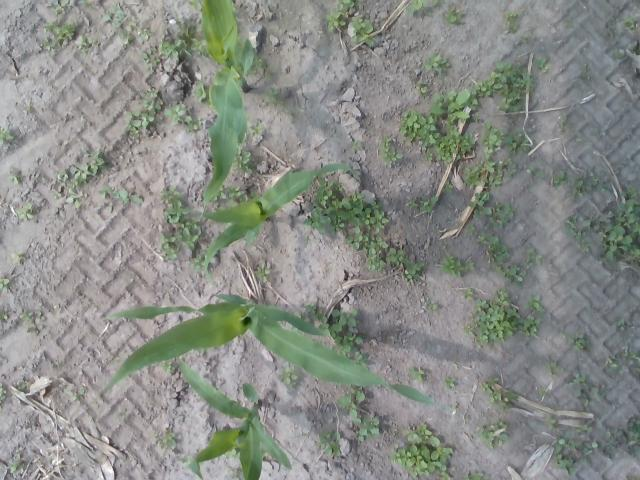Maize: (98, 291, 450, 412), (190, 164, 358, 284), (174, 356, 292, 480), (198, 0, 255, 222)
Weeds: (302, 175, 389, 234), (389, 422, 454, 480), (599, 184, 640, 262), (471, 288, 519, 346), (485, 60, 535, 113), (553, 425, 599, 474), (318, 308, 362, 356), (343, 227, 387, 272), (478, 123, 531, 160), (428, 86, 479, 124), (396, 108, 439, 148), (463, 157, 518, 187), (433, 124, 475, 163), (479, 376, 519, 410), (40, 19, 78, 54), (159, 184, 191, 224), (336, 382, 366, 424), (473, 228, 510, 262), (98, 184, 143, 210), (562, 215, 590, 254), (568, 174, 610, 198), (180, 20, 207, 57), (174, 217, 203, 250), (438, 252, 474, 278), (478, 420, 509, 450), (346, 15, 375, 47), (122, 108, 152, 138), (119, 21, 152, 48), (376, 135, 404, 165), (313, 430, 342, 458), (486, 201, 516, 228), (495, 264, 528, 288), (464, 190, 492, 216), (18, 310, 46, 336), (155, 231, 180, 260), (184, 248, 217, 269), (574, 386, 604, 408), (230, 144, 252, 174), (138, 88, 162, 115), (400, 256, 424, 282), (356, 418, 382, 442), (101, 5, 128, 28), (193, 80, 213, 110), (84, 148, 105, 176), (162, 101, 186, 125), (472, 78, 502, 97), (406, 0, 439, 17), (288, 313, 312, 336), (424, 52, 449, 74), (278, 364, 299, 390), (519, 314, 541, 338), (68, 162, 90, 185), (66, 180, 84, 208), (625, 417, 640, 450), (247, 52, 267, 75), (523, 294, 546, 314), (260, 85, 284, 104), (566, 332, 591, 350), (156, 38, 181, 56), (442, 6, 467, 24), (502, 9, 520, 34), (227, 185, 249, 205), (76, 32, 98, 52), (142, 46, 160, 70), (558, 110, 572, 140), (523, 246, 543, 266), (324, 11, 344, 31), (540, 360, 564, 376), (419, 194, 438, 214), (182, 114, 203, 132), (159, 428, 176, 450), (603, 426, 622, 445), (16, 202, 34, 222), (253, 263, 271, 283), (620, 11, 638, 29), (157, 356, 176, 373), (6, 456, 25, 473), (406, 365, 425, 382), (384, 246, 404, 262), (63, 388, 85, 402), (336, 0, 354, 17), (526, 165, 546, 180), (460, 470, 490, 480), (210, 184, 228, 200), (566, 372, 588, 385), (0, 125, 15, 144), (552, 170, 569, 186), (303, 302, 318, 320), (543, 413, 559, 429), (353, 350, 369, 366), (534, 56, 548, 74), (415, 77, 428, 95), (10, 249, 25, 264), (186, 0, 202, 14), (54, 0, 70, 14), (224, 467, 241, 480), (604, 357, 620, 370), (622, 348, 638, 361), (250, 120, 263, 136), (461, 287, 474, 302), (580, 63, 592, 79), (514, 34, 532, 44), (0, 276, 10, 294), (176, 452, 192, 463), (443, 179, 453, 196), (223, 448, 240, 458), (442, 375, 455, 388), (616, 316, 628, 330), (7, 170, 19, 184), (424, 299, 439, 310), (629, 40, 640, 55), (0, 382, 6, 409), (463, 324, 475, 336), (464, 222, 476, 234), (614, 48, 626, 60), (421, 149, 433, 161), (536, 386, 548, 398), (56, 170, 69, 181), (18, 379, 32, 389), (350, 139, 362, 150), (407, 198, 419, 208), (564, 16, 574, 28), (581, 218, 591, 227), (437, 242, 446, 252), (250, 189, 260, 198), (260, 449, 270, 458), (574, 131, 583, 141), (149, 432, 157, 443), (52, 191, 61, 199), (196, 346, 208, 352), (0, 313, 8, 322), (290, 107, 296, 118), (558, 330, 566, 337), (216, 206, 228, 210), (84, 0, 90, 6), (26, 106, 32, 112), (248, 114, 252, 120)
